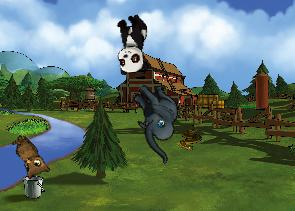elephant: (112, 76, 201, 164)
owl: (1, 132, 54, 185)
panda: (113, 13, 150, 75)
